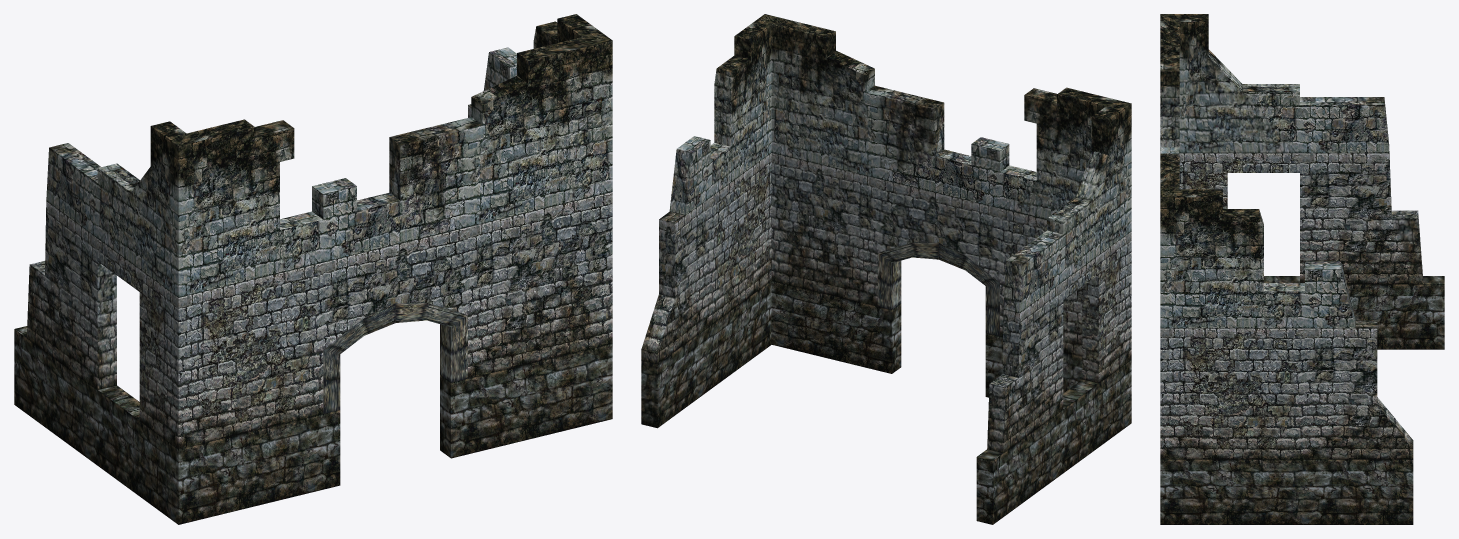
3 renders of one model, left to right at view 1: azimuth 30°, elevation 25°; view 2: azimuth 150°, elevation 25°; view 3: azimuth 270°, elevation 25°, orthographic. The views are drawn at different scales.
Visible parts, largest first — view 1: hr_h5; view 2: hr_h5; view 3: hr_h5.
Part boxes in pixels (x1,y1,x2,y2): hr_h5: [14, 14, 612, 524]; hr_h5: [641, 14, 1131, 524]; hr_h5: [1160, 14, 1444, 524].
Bounding box in the file's own units: 9 × 7.5 × 5.9.
Materials: 6 (6 with a texture image).
